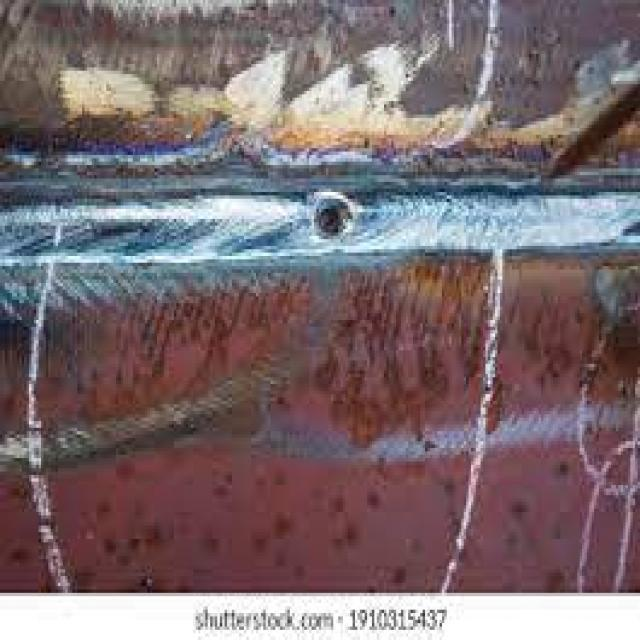Porosity: (307, 186, 357, 252)
